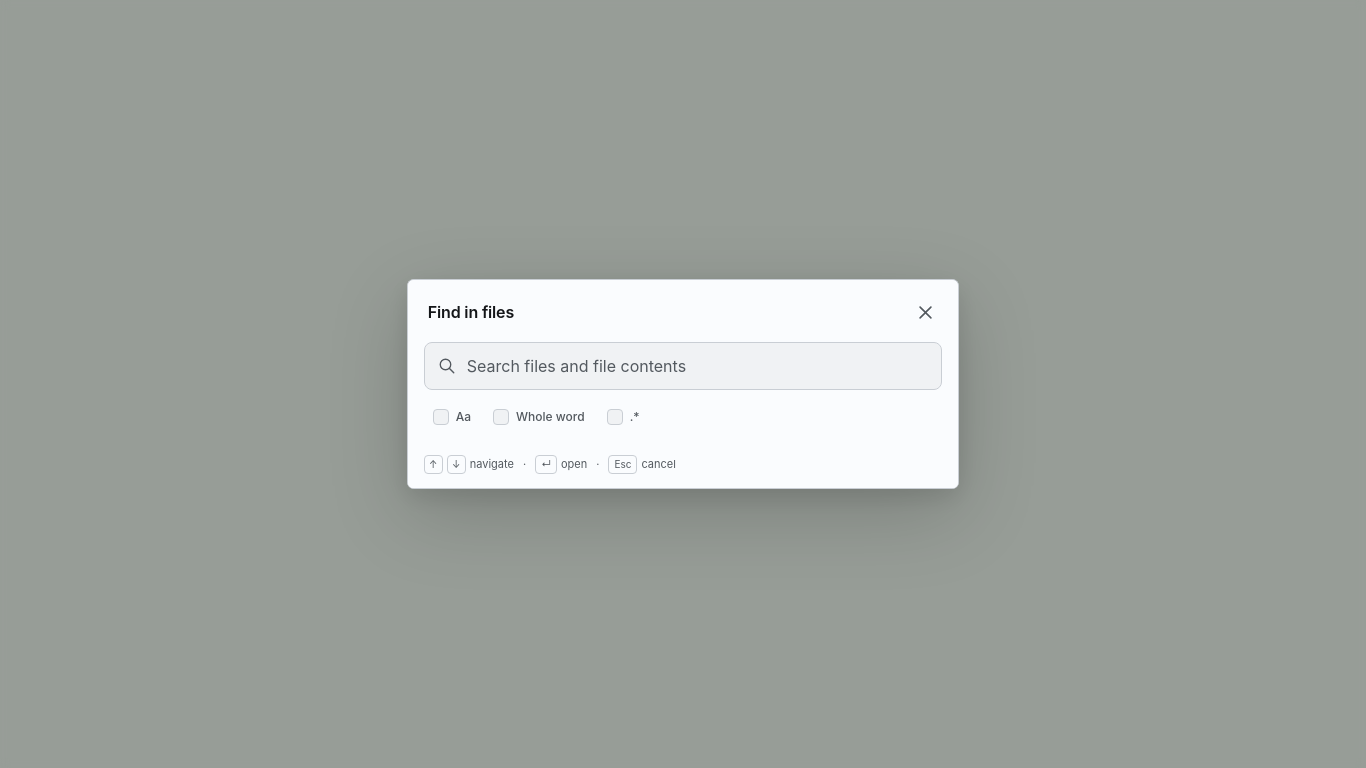
Test: TextSearchPalette › says so when the backend cut the result list short
In the field with test id "text-search-input": [683, 366] box [424, 342, 942, 390], type "hit"
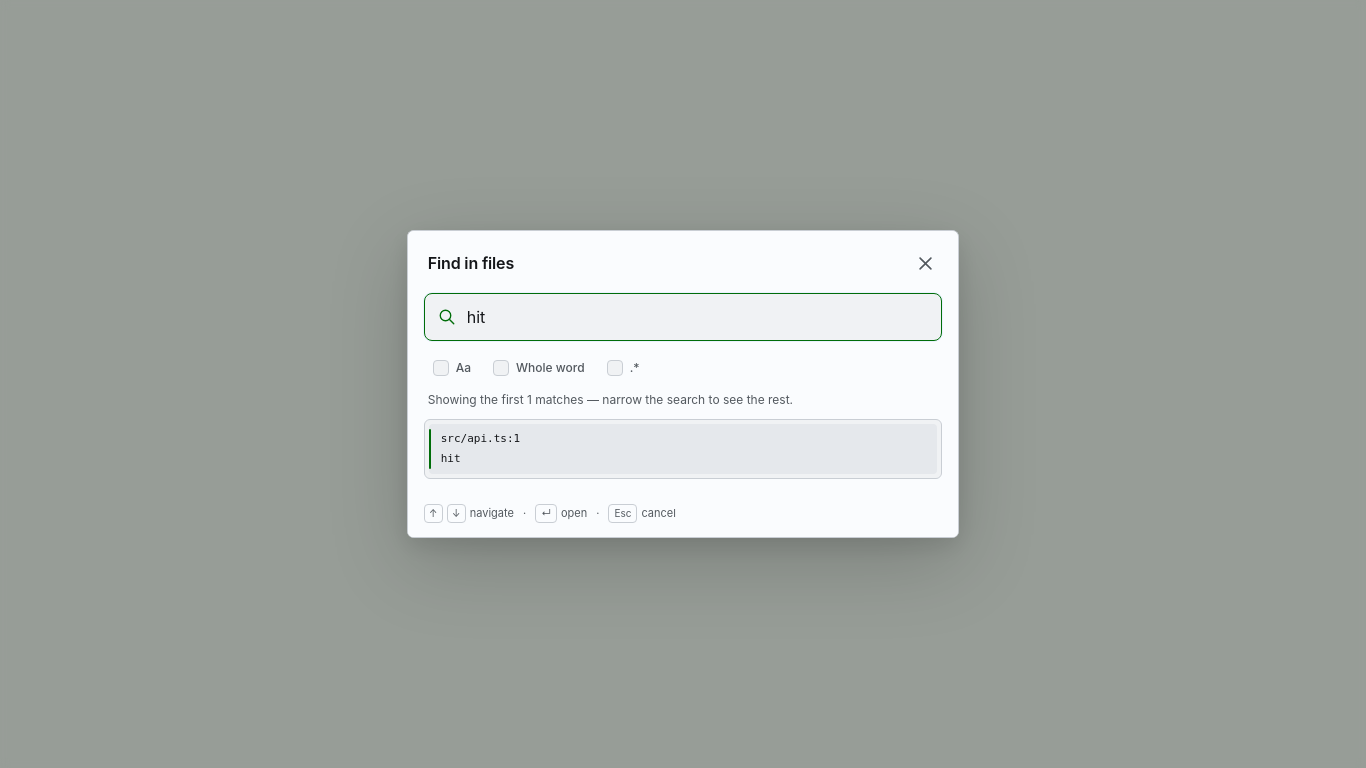
Expected: the text with test id "text-search-truncated" is shown, [428, 392, 793, 407]
